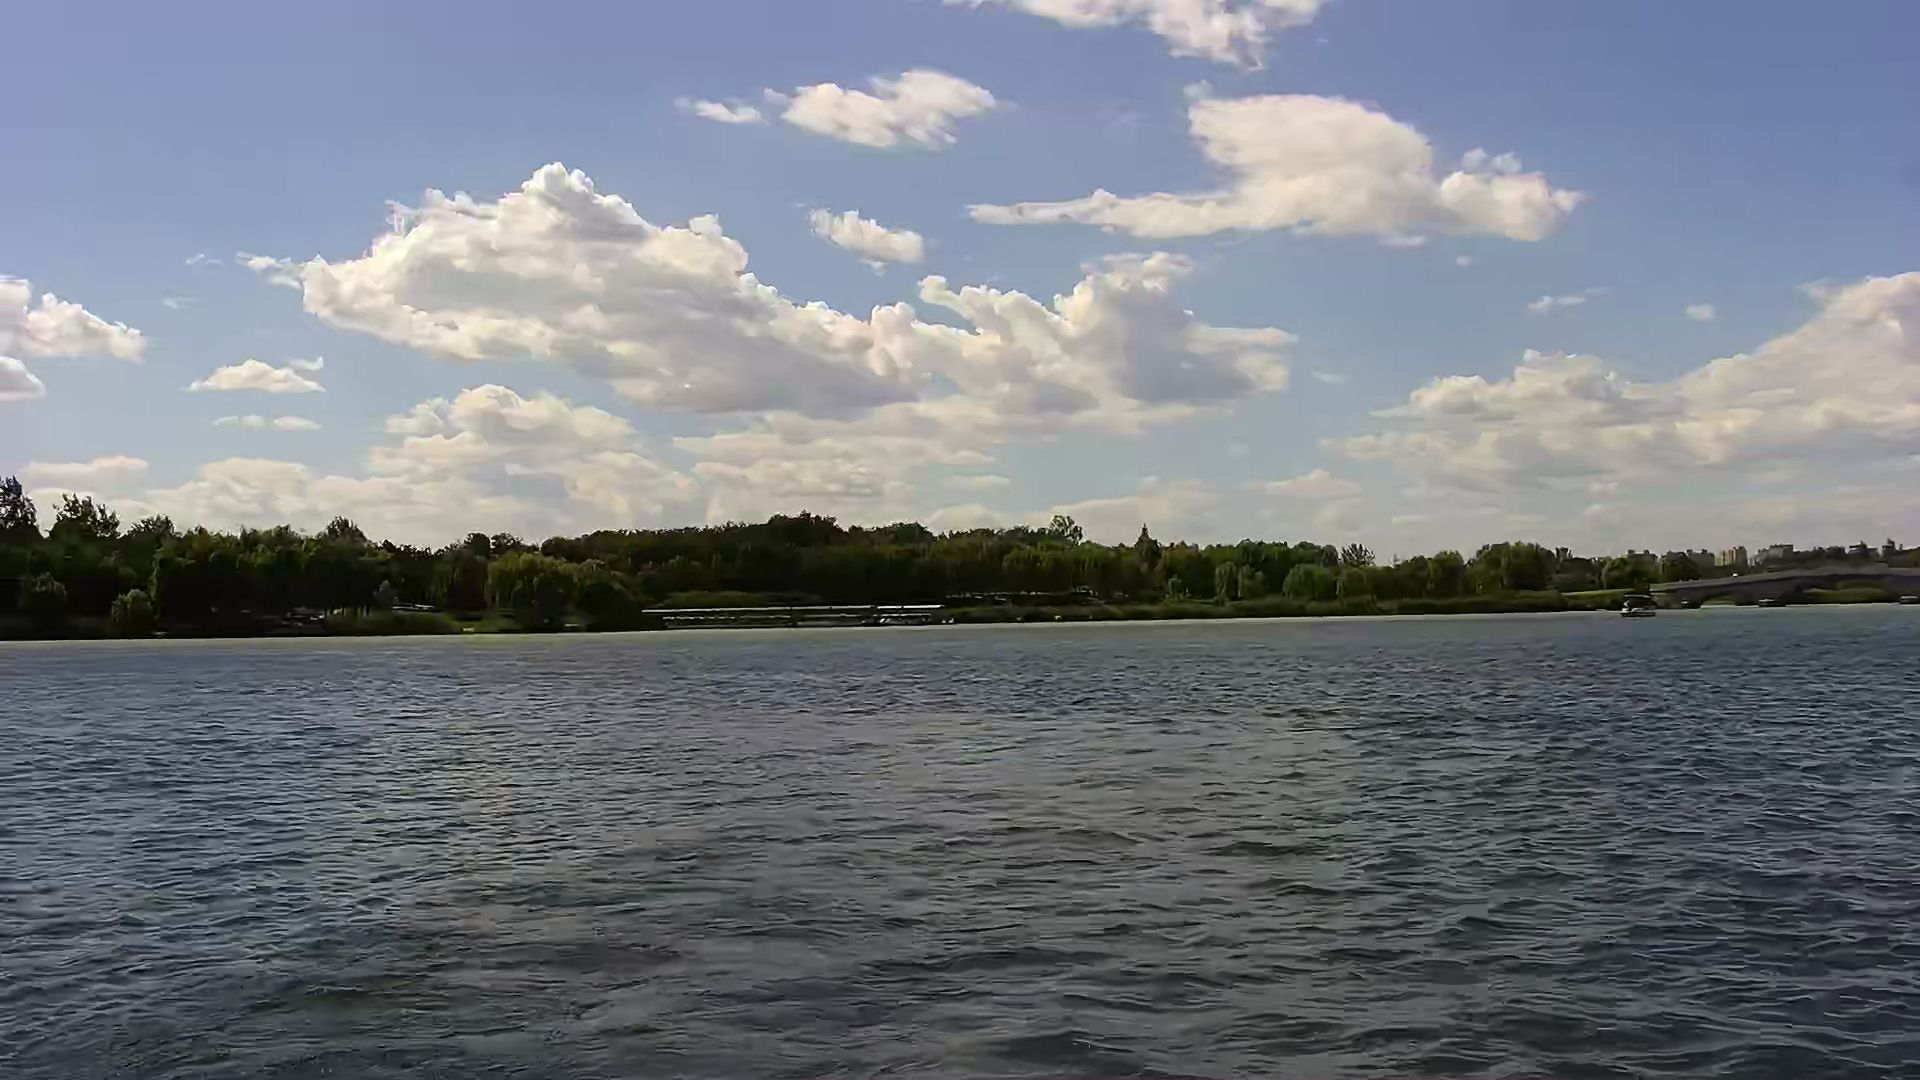boat: (1622, 593, 1654, 616)
bridge: (1647, 567, 1920, 607)
harbor: (649, 604, 945, 626)
